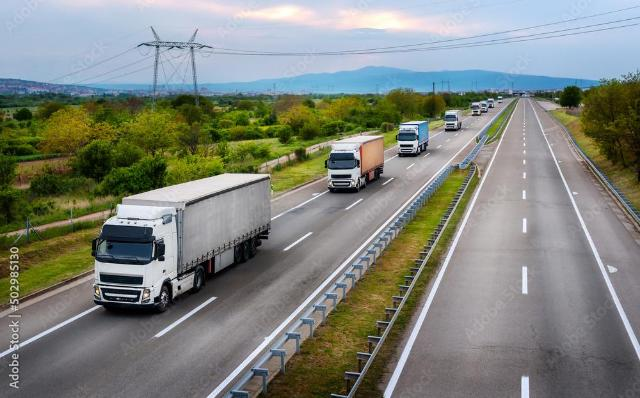truck: (74, 167, 290, 320), (326, 136, 384, 195), (395, 119, 430, 156), (444, 109, 462, 131), (471, 101, 483, 116), (481, 100, 488, 113), (487, 98, 494, 108), (497, 95, 504, 105)
